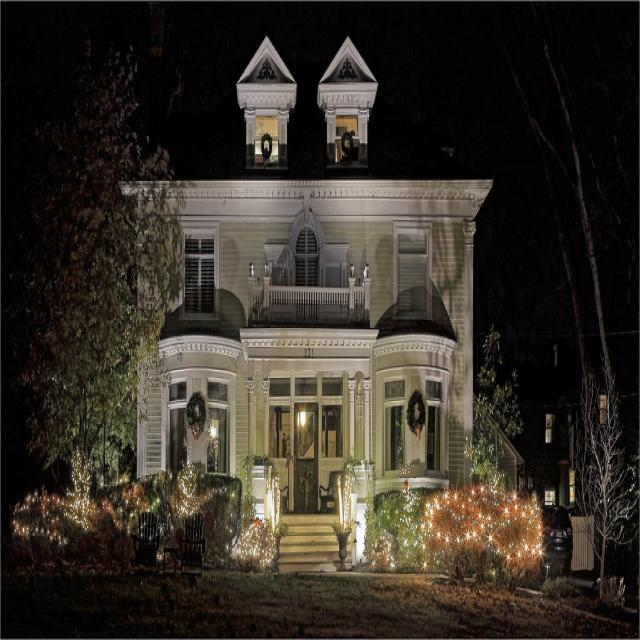Normal_building: (110, 30, 498, 563)
